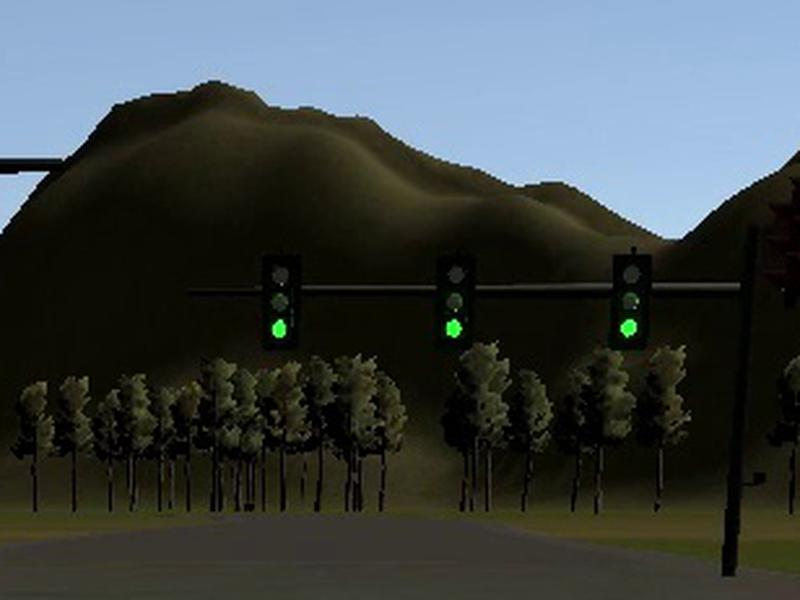Green: (609, 253, 654, 349), (262, 254, 302, 351), (433, 253, 473, 350)
